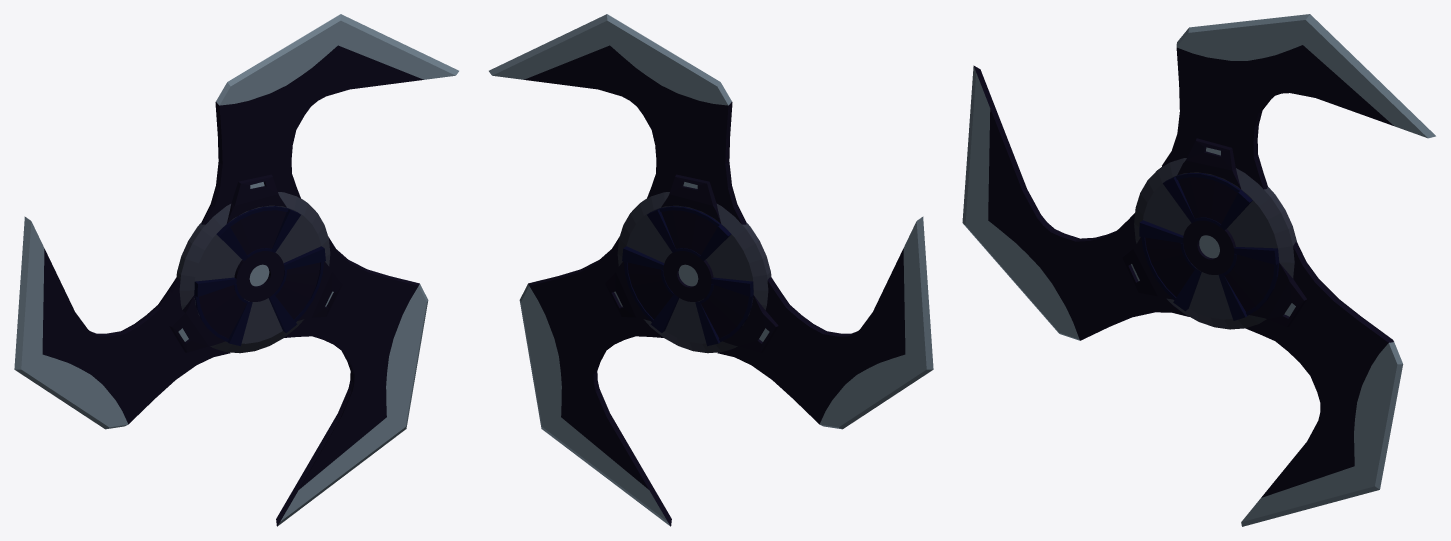
Rendered from ArcStar.fbx.
The picture shows the model from 3 angles, left to right: view 1: azimuth 30°, elevation 25°; view 2: azimuth 150°, elevation 25°; view 3: azimuth 330°, elevation 25°; orthographic projection. The views are drawn at different scales.
Parts seen in each view (by area): view 1: ShurikenBlades, ShurikenBase; view 2: ShurikenBlades, ShurikenBase; view 3: ShurikenBlades, ShurikenBase.
Part boxes in pixels (box(x1,y1,x2,y2)): ShurikenBlades: box(14, 14, 458, 526); ShurikenBase: box(176, 192, 330, 353); ShurikenBlades: box(489, 14, 933, 526); ShurikenBase: box(617, 192, 771, 353); ShurikenBlades: box(962, 14, 1435, 526); ShurikenBase: box(1134, 158, 1297, 329).
Bounding box in the file's own units: 0.345 × 0.3683 × 0.0231.
